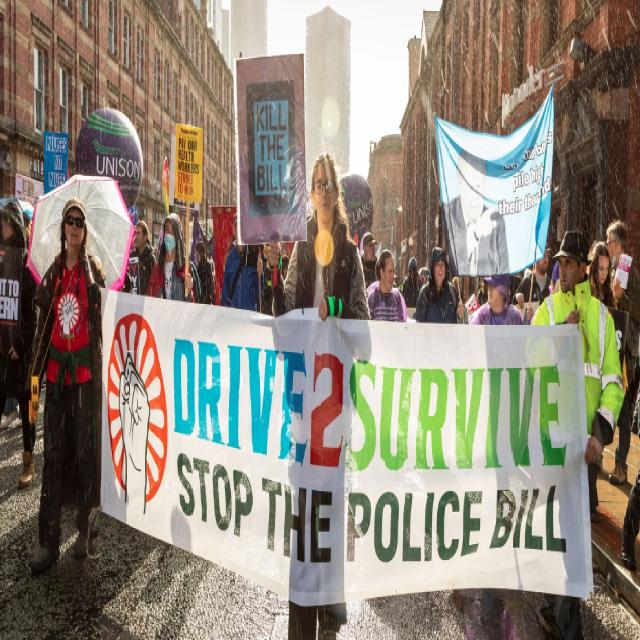Walking: (263, 147, 366, 640), (527, 216, 629, 640), (30, 184, 105, 580)
human: (260, 146, 364, 640), (537, 226, 621, 640), (32, 182, 112, 576)
